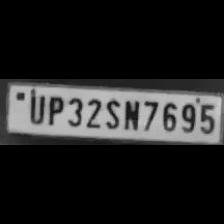2: (83, 96, 101, 128)
3: (64, 93, 82, 126)
5: (196, 100, 216, 134)
6: (158, 99, 176, 133)
7: (140, 98, 158, 132)
9: (178, 100, 196, 132)
N: (122, 96, 140, 132)
P: (44, 92, 64, 125)
S: (102, 96, 120, 130)
U: (26, 92, 44, 124)
